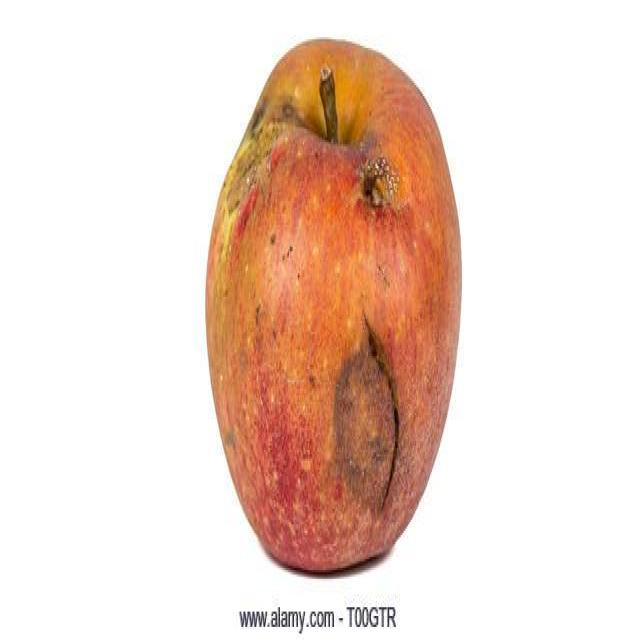Rotten: (216, 49, 457, 575)
